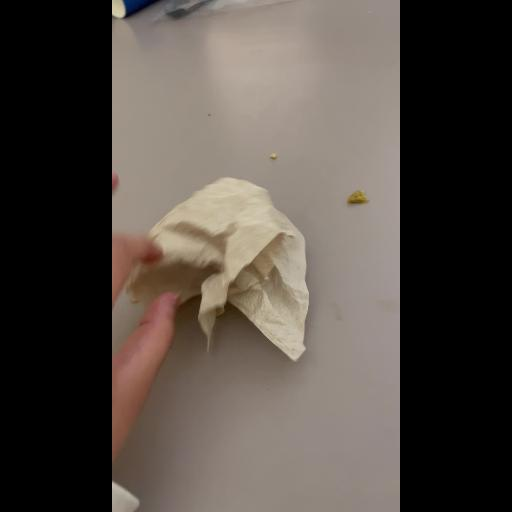napkin: (112, 175, 348, 381)
